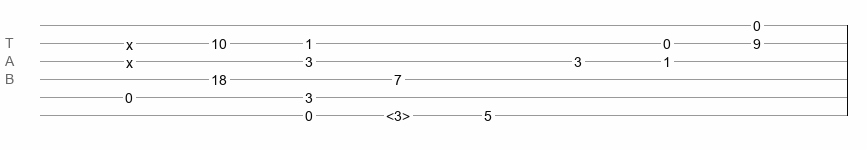0: (125, 90, 133, 100), (305, 108, 313, 118), (663, 36, 671, 46), (753, 18, 761, 28)
1: (305, 36, 313, 46), (663, 54, 671, 64)
10: (211, 36, 227, 46)
18: (211, 72, 227, 82)
3: (305, 54, 313, 64), (305, 90, 313, 100), (574, 54, 582, 64)
5: (484, 108, 492, 118)
7: (394, 72, 402, 82)
9: (753, 36, 761, 46)
harmonic: (386, 108, 410, 118)
x: (126, 55, 133, 63), (126, 37, 133, 45)
